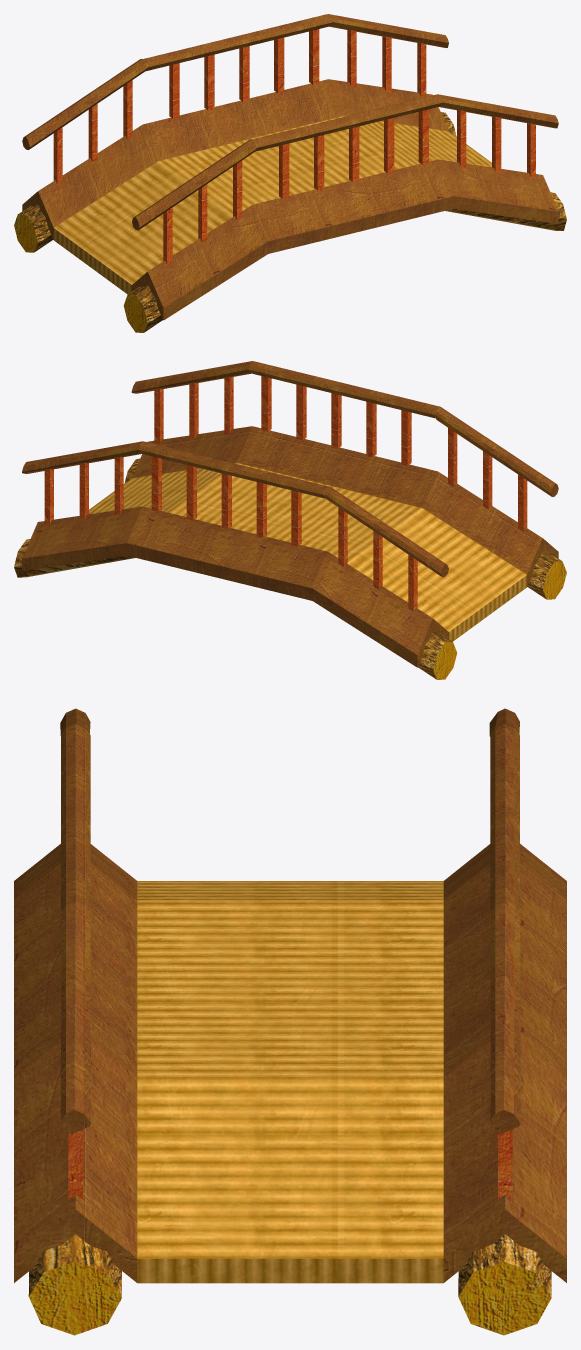
File: ftbr1.glb
3 renders of one model, top to bottom at view 1: azimuth 30°, elevation 25°; view 2: azimuth 150°, elevation 25°; view 3: azimuth 270°, elevation 25°, orthographic. The views are drawn at different scales.
Visible parts, largest first — view 1: ftbr1; view 2: ftbr1; view 3: ftbr1.
Boxes of the visible parts, x1,y1,x2,y2 form: ftbr1: (14, 14, 566, 332); ftbr1: (14, 361, 566, 679); ftbr1: (14, 708, 566, 1335).
Size of the model in its own units: 12 by 4.51 by 7.
5 materials, 5 textured.
